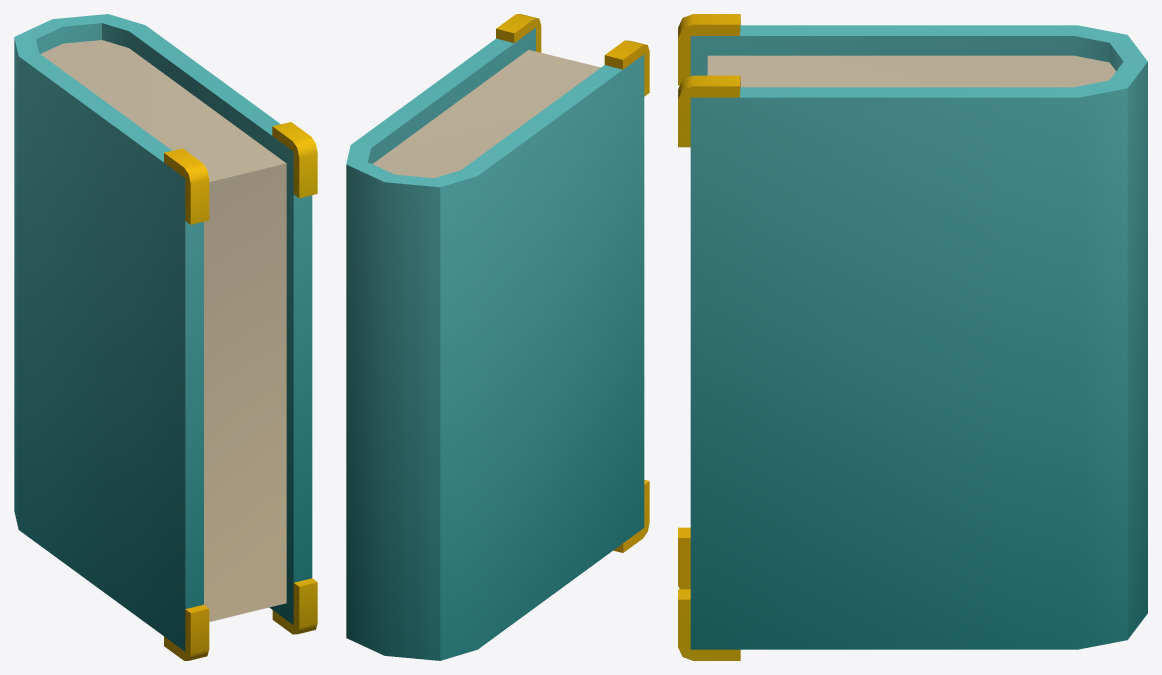
File: Book_8.fbx
3 views of the same model, side by side, from view 1: azimuth 30°, elevation 25°; view 2: azimuth 150°, elevation 25°; view 3: azimuth 270°, elevation 25° (orthographic). The views are drawn at different scales.
Parts seen in each view (by area): view 1: Book_8; view 2: Book_8; view 3: Book_8.
Boxes of the visible parts, x1,y1,x2,y2 form: Book_8: (14,14,317,660); Book_8: (346,14,649,660); Book_8: (678,14,1147,660).
Size of the model in its own units: 0.0417 by 0.1548 by 0.1147.
